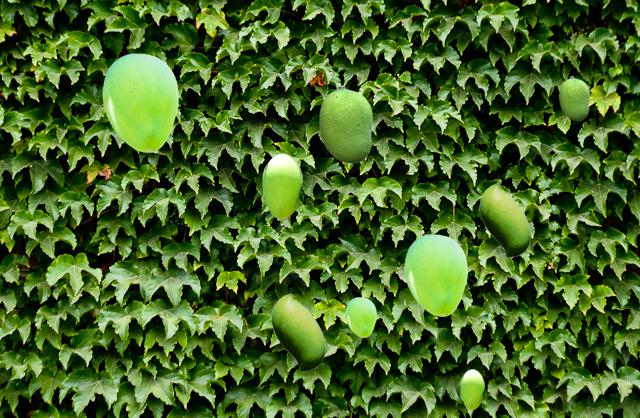green_mango: (102, 53, 177, 151), (404, 234, 466, 315), (271, 293, 324, 370), (319, 85, 371, 162), (479, 183, 529, 256), (262, 153, 301, 217), (559, 76, 588, 119), (345, 297, 375, 336), (460, 369, 483, 408)
